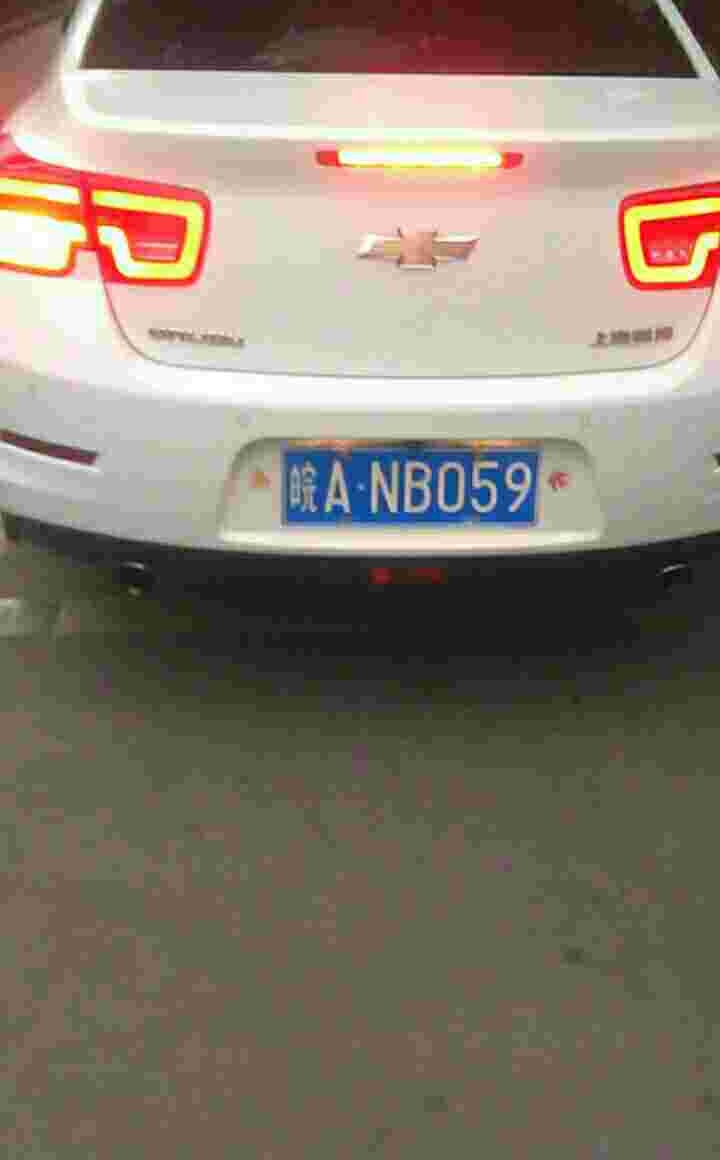plate: (283, 444, 547, 530)
